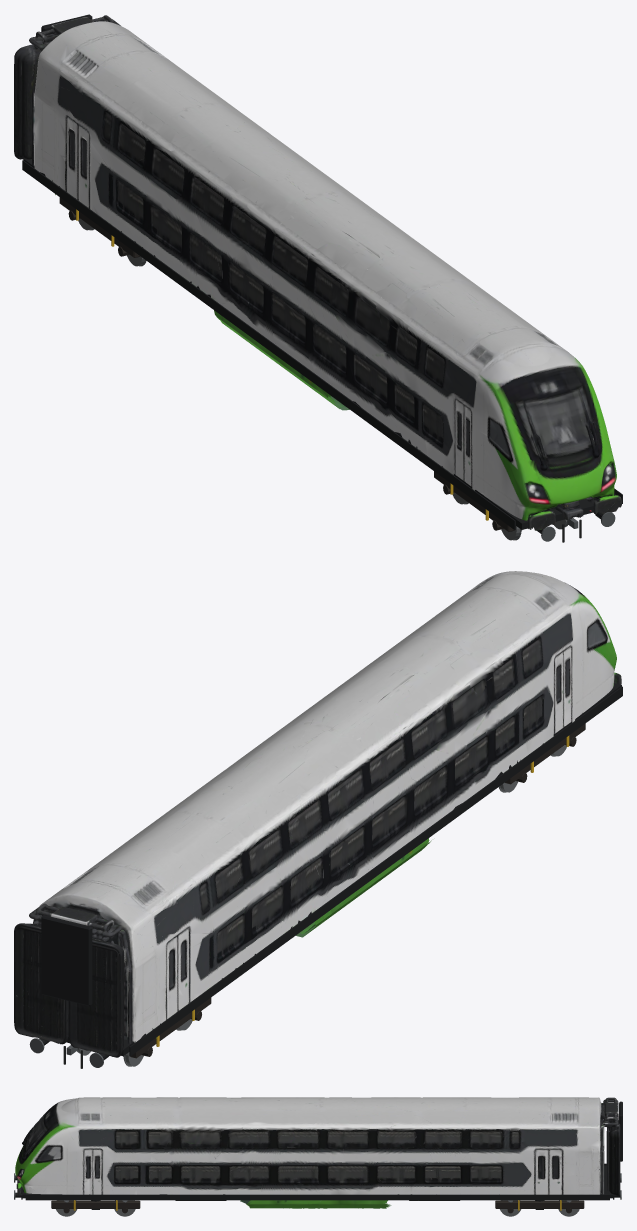
File: edo.glb
The picture shows the model from 3 angles, top to bottom: view 1: azimuth 30°, elevation 25°; view 2: azimuth 150°, elevation 25°; view 3: azimuth 270°, elevation 25°; orthographic projection. The views are drawn at different scales.
Parts seen in each view (by area): view 1: edo_kori, edo_helma-1, edo_frame; view 2: edo_kori, edo_helma-1, edo_palje1; view 3: edo_kori, edo_helma1, Bogie_R_side1, Bogie_F_side1, edo_frame, edo_palje1.
Part boxes in pixels (x1,y1,x2,y2): edo_kori: (14, 15, 621, 530); edo_helma-1: (22, 160, 515, 529); edo_frame: (23, 158, 621, 529); edo_kori: (14, 571, 621, 1057); edo_helma-1: (129, 686, 622, 1056); edo_palje1: (41, 915, 92, 1005); edo_kori: (15, 1097, 620, 1208); edo_helma1: (25, 1194, 609, 1200); Bogie_R_side1: (495, 1200, 584, 1208); Bogie_F_side1: (51, 1200, 140, 1208); edo_frame: (22, 1165, 613, 1198); edo_palje1: (619, 1101, 622, 1161).
Size of the model in its own units: 3.18 by 5.08 by 26.06.
Materials: 7 (1 with a texture image).
